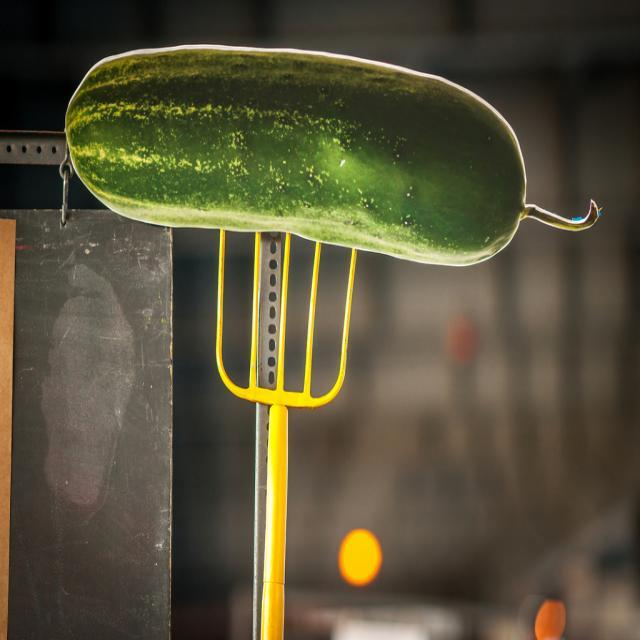Cucumber: (47, 24, 589, 289)
